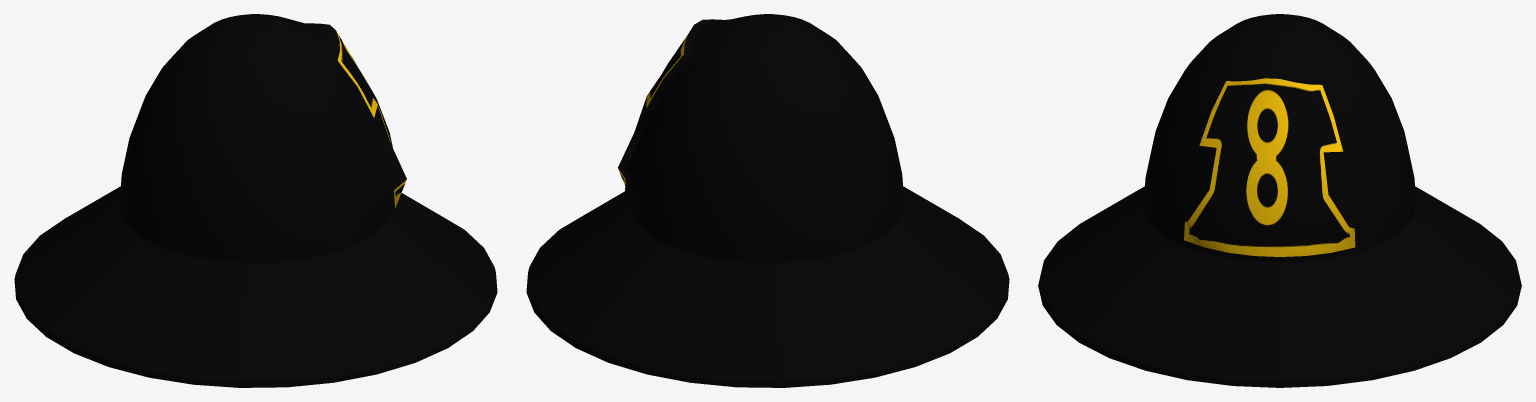
Rendered from FireFighter_Hat.fbx.
3 views of the same model, side by side, from view 1: azimuth 30°, elevation 25°; view 2: azimuth 150°, elevation 25°; view 3: azimuth 270°, elevation 25° (orthographic).
Visible parts, largest first — view 1: Sphere001; view 2: Sphere001; view 3: Sphere001.
Boxes of the visible parts, x1,y1,x2,y2 form: Sphere001: (14,14,497,387); Sphere001: (526,14,1009,387); Sphere001: (1038,14,1521,387).
Bounding box in the file's own units: 29.32 × 17.67 × 29.32.
1 material, 1 textured.
